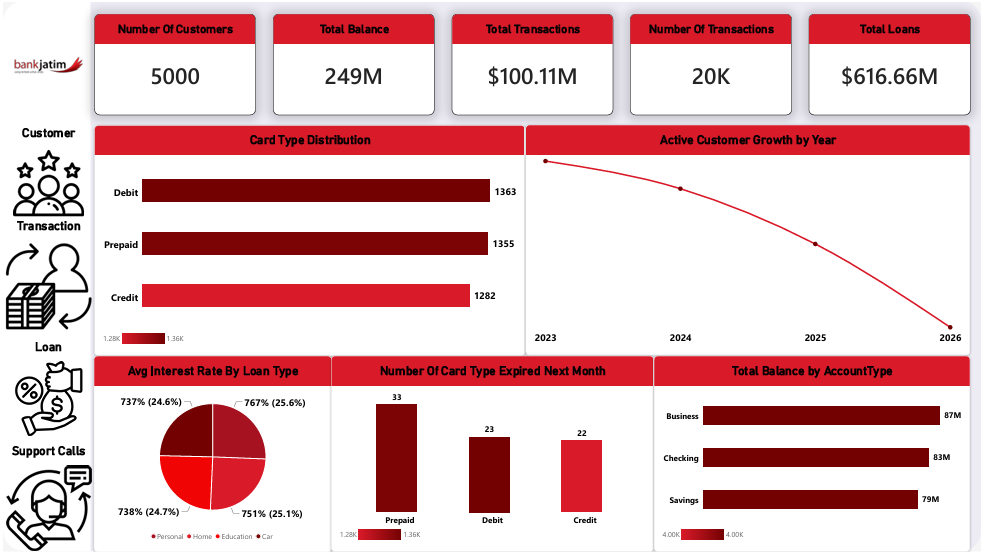

The dashboard page shown, as its layout file describes it:
{"tool":"powerbi","page":{"name":"Over View","canvas":[1920,1080],"ordinal":1},"visuals":[{"type":"card","title":"Number Of Customers","fields":{"Values":["_Measure.Number Of Customers"]},"box":[178.9,22.7,317.5,199.1],"z":0},{"type":"card","title":"Total Transactions","fields":{"Values":["_Measure.Transaction Amount"]},"box":[880.6,22.7,317.5,199.1],"z":1000},{"type":"card","title":"Total Balance","fields":{"Values":["_Measure.Total Balance"]},"box":[529.8,22.7,317.5,199.1],"z":2000},{"type":"card","title":"Number Of Transactions","fields":{"Values":["_Measure.Total Transaction"]},"box":[1231.5,22.7,317.5,199.1],"z":3000},{"type":"card","title":"Total Loans","fields":{"Values":["_Measure.Total Loans"]},"box":[1582.4,22.7,317.5,199.1],"z":4000},{"type":"barChart","title":"Card Type Distribution","fields":{"Category":["DimCards.CardType"],"Y":["CountNonNull(DimCards.CardType)"]},"box":[178.6,242.4,846.1,452.8],"z":5000},{"type":"lineChart","fields":{"Category":["DimDate.Year"],"Y":["_Measure.Active Customer Growth"]},"box":[1025.6,241.3,873.8,452.8],"z":6000},{"type":"pieChart","title":"Avg Interest Rate By Loan Type","fields":{"Y":["_Measure.Average interest Rate Analysis"],"Category":["DimLoanType.LoanType"]},"box":[178.4,695.1,466.9,385.6],"z":7000},{"type":"columnChart","title":"Number Of Card Type Expired Next Month","fields":{"Y":["_Measure.Card Expire next month"],"Category":["DimCards.CardType"]},"box":[644.2,695.2,633.5,384.8],"z":8000},{"type":"barChart","fields":{"Category":["DimAccounts.AccountType"],"Y":["_Measure.Total Balance"]},"box":[1277.7,695.2,620.8,384.8],"z":9000},{"type":"image","box":[0,23.4,178.6,199.8],"z":10000},{"type":"image","title":"Customer","box":[0,243.2,179.2,181.3],"z":11000},{"type":"image","title":"Transaction","box":[0,424.5,179.2,224],"z":12000},{"type":"image","title":"Loan","box":[0,663.5,179.2,189.9],"z":13000},{"type":"image","title":"Support Calls","box":[0,868.3,179.2,211.2],"z":14000}]}

Visuals, with their boxes in screenshot pixels (x1, y1, x2, y2), scaled from the page's 1920x1080 canvas onto the 984x560 screenshot:
"Number Of Customers" card: (left=92, top=12, right=254, bottom=115)
"Total Transactions" card: (left=451, top=12, right=614, bottom=115)
"Total Balance" card: (left=272, top=12, right=434, bottom=115)
"Number Of Transactions" card: (left=631, top=12, right=794, bottom=115)
"Total Loans" card: (left=811, top=12, right=974, bottom=115)
"Card Type Distribution" barChart: (left=92, top=126, right=525, bottom=360)
lineChart - DimDate.Year x _Measure.Active Customer Growth: (left=526, top=125, right=973, bottom=360)
"Avg Interest Rate By Loan Type" pieChart: (left=91, top=360, right=331, bottom=559)
"Number Of Card Type Expired Next Month" columnChart: (left=330, top=360, right=655, bottom=559)
barChart - DimAccounts.AccountType x _Measure.Total Balance: (left=655, top=360, right=973, bottom=559)
image: (left=0, top=12, right=92, bottom=116)
"Customer" image: (left=0, top=126, right=92, bottom=220)
"Transaction" image: (left=0, top=220, right=92, bottom=336)
"Loan" image: (left=0, top=344, right=92, bottom=443)
"Support Calls" image: (left=0, top=450, right=92, bottom=559)
